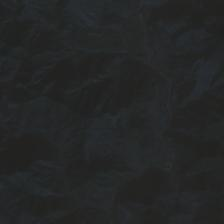landslides: (103, 26, 136, 32)
